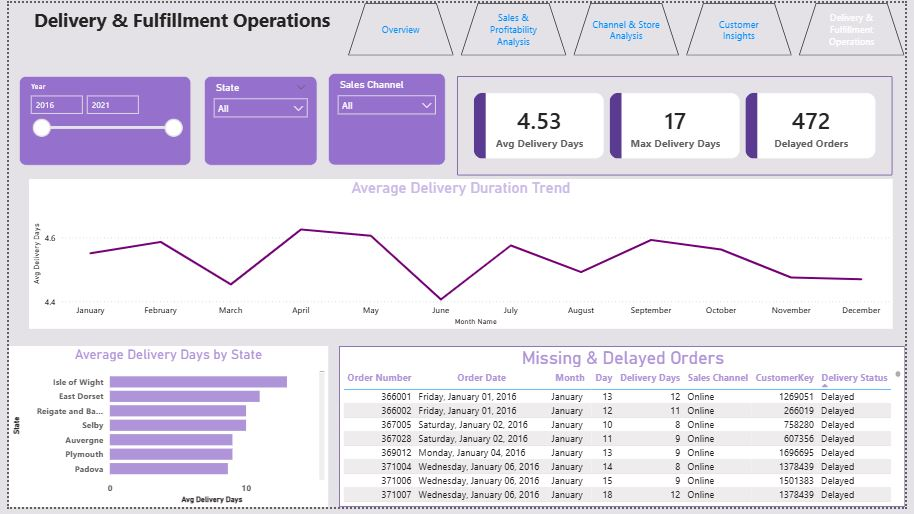

This screenshot's page, from the dashboard's own definition file:
{"tool":"powerbi","page":{"name":"Delivery & Fulfillment Operations","canvas":[1280,720],"ordinal":4},"visuals":[{"type":"slicer","fields":{"Values":["Date.Year"]},"box":[14,104,246,128],"z":0},{"type":"slicer","fields":{"Values":["Customers.State"]},"box":[278,104,162,128],"z":1000},{"type":"slicer","fields":{"Values":["Sales.Sales Channel"]},"box":[456,100,168,132],"z":2000},{"type":"cardVisual","fields":{"Data":["Customers.Avg Delivery Days","Customers.Max Delivery Days","Customers.Delayed Orders"]},"box":[640,104,622,142],"z":3000},{"type":"lineChart","title":"Average Delivery Duration Trend","fields":{"Y":["Customers.Avg Delivery Days"],"Category":["Sales.Month Name"]},"box":[28,252,1234,214],"z":4000},{"type":"barChart","title":"Average Delivery Days by State","fields":{"Category":["Customers.State"],"Y":["Customers.Avg Delivery Days"]},"box":[0,490,456,230],"z":5000},{"type":"tableEx","title":"Missing & Delayed Orders","fields":{"Values":["Sales.Order Number","Sales.Order Date","Sales.Delivery Date.Variation.Date Hierarchy.Month","Sales.Delivery Date.Variation.Date Hierarchy.Day","Sales.Delivery Days","Sales.Sales Channel","Sales.CustomerKey","Sales.Delivery Status"]},"box":[471.3,489.6,809,230.4],"z":6000},{"type":"textbox","box":[0,0,494,62],"z":7000},{"type":"pageNavigator","box":[483.7,0,796.3,75.6],"z":12001}]}

Visuals, with their boxes in screenshot pixels (x1, y1, x2, y2), scaled from the page's 1280x720 canvas onto the 914x514 screenshot:
slicer - Date.Year: [x1=10, y1=74, x2=186, y2=166]
slicer - Customers.State: [x1=199, y1=74, x2=314, y2=166]
slicer - Sales.Sales Channel: [x1=326, y1=71, x2=446, y2=166]
cardVisual - Customers.Avg Delivery Days x Customers.Max Delivery Days: [x1=457, y1=74, x2=901, y2=176]
"Average Delivery Duration Trend" lineChart: [x1=20, y1=180, x2=901, y2=333]
"Average Delivery Days by State" barChart: [x1=0, y1=350, x2=326, y2=513]
"Missing & Delayed Orders" tableEx: [x1=337, y1=350, x2=913, y2=513]
textbox: [x1=0, y1=0, x2=353, y2=44]
pageNavigator: [x1=345, y1=0, x2=913, y2=54]
